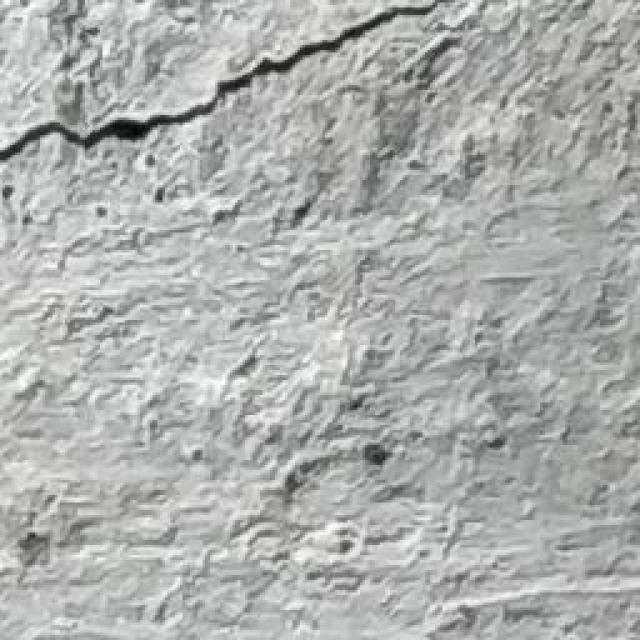Diagonal: (0, 0, 444, 168)
Rippled: (0, 177, 640, 640), (453, 5, 640, 164)
